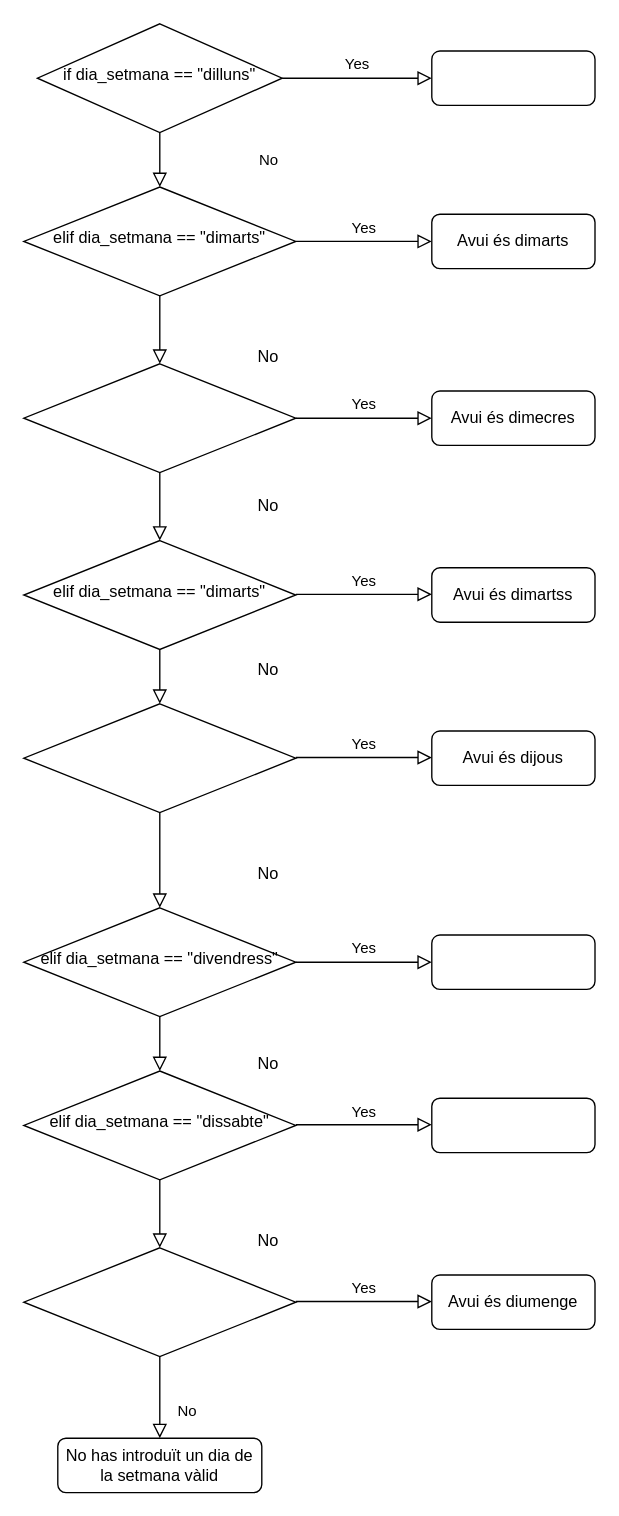
The diagram is 619 pixels wide and 1516 high, and some of its shapes have lost their labels. The centre of each missing label's shape, as x and y in pixels:
Avui és dilluns: point (512, 77)
Avui és dissabte: point (512, 1125)
Avui és divendres: point (512, 961)
elif dia_setmana == "dijous": point (159, 757)
elif dia_setmana == "dimecres": point (159, 417)
elif dia_setmana == "diumenge": point (159, 1301)
